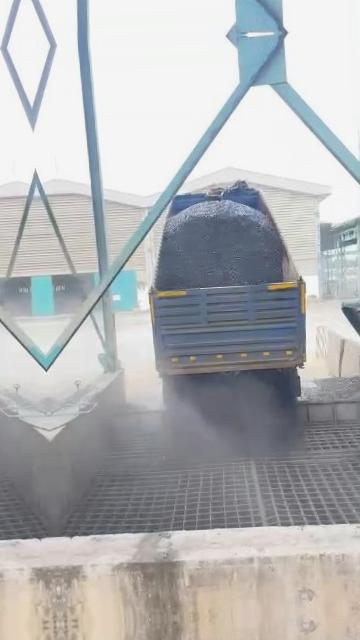gravel: (156, 200, 286, 290), (164, 371, 297, 452), (301, 376, 360, 401)
